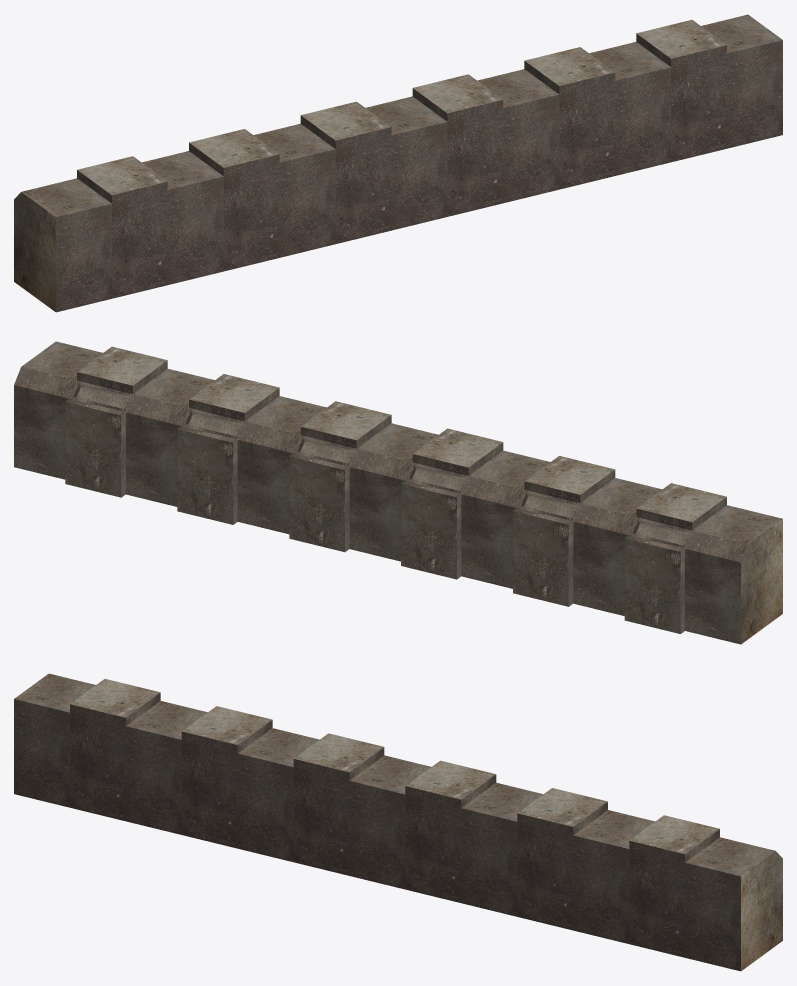
File: battleship_02.obj
3 views of the same model, one above another, from view 1: azimuth 30°, elevation 25°; view 2: azimuth 150°, elevation 25°; view 3: azimuth 330°, elevation 25° (orthographic).
Visible parts, largest first — view 1: battleship_02; view 2: battleship_02; view 3: battleship_02.
Part boxes in pixels (<box>): battleship_02: <box>14,14,782,312</box>; battleship_02: <box>14,341,782,644</box>; battleship_02: <box>14,673,782,971</box>.
Bounding box in the file's own units: 8000 × 1089 × 884.
